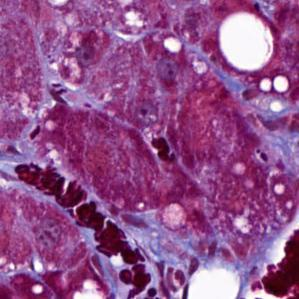inflammation: (146, 132, 181, 163), (44, 81, 73, 110)
